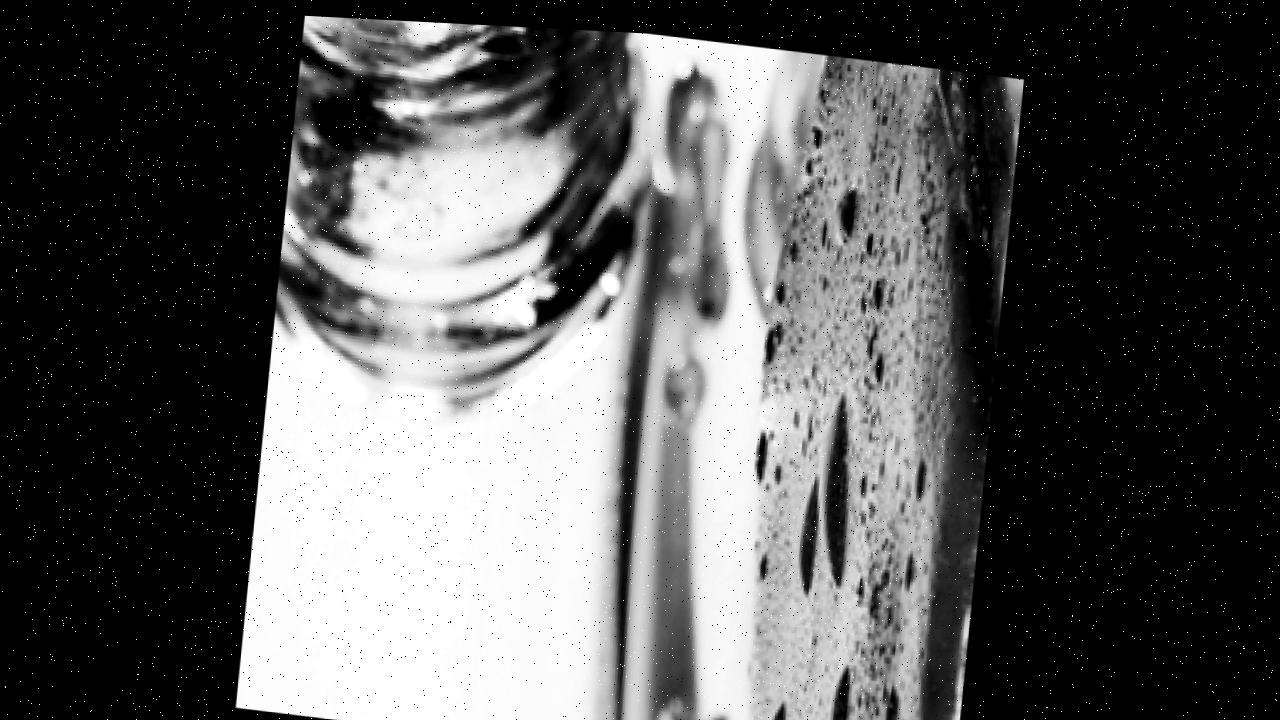drinks Stains: (564, 24, 1024, 720)
